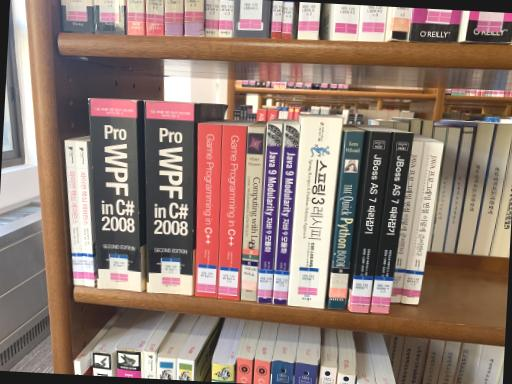book-spine: (288, 117, 343, 308), (89, 98, 141, 292), (145, 102, 194, 296), (370, 133, 413, 313), (351, 131, 390, 313), (401, 142, 443, 304), (328, 132, 363, 309), (390, 141, 423, 303), (217, 125, 246, 300), (273, 124, 301, 304), (195, 124, 221, 298), (257, 123, 282, 303), (240, 127, 264, 301), (64, 141, 84, 286), (76, 141, 94, 287)
